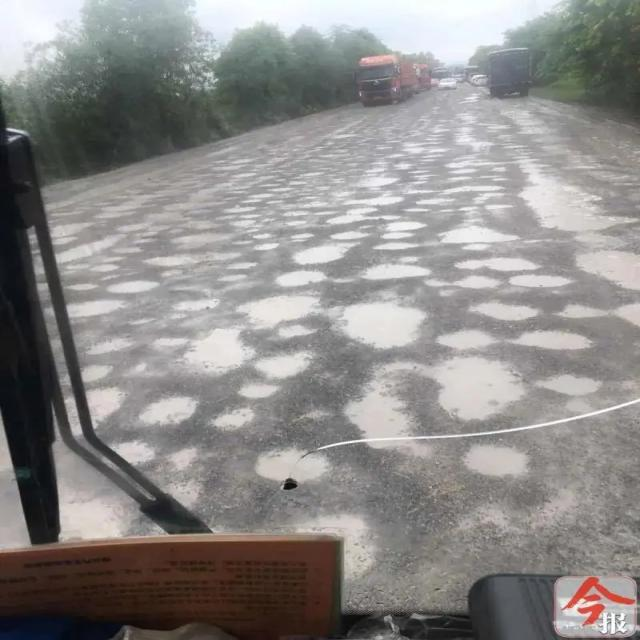Pothole: (113, 114, 582, 443)
